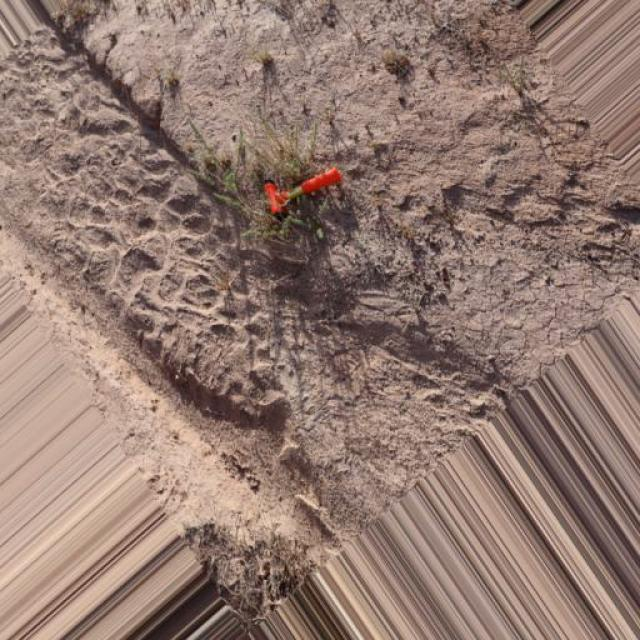mallet: (262, 165, 342, 216)
